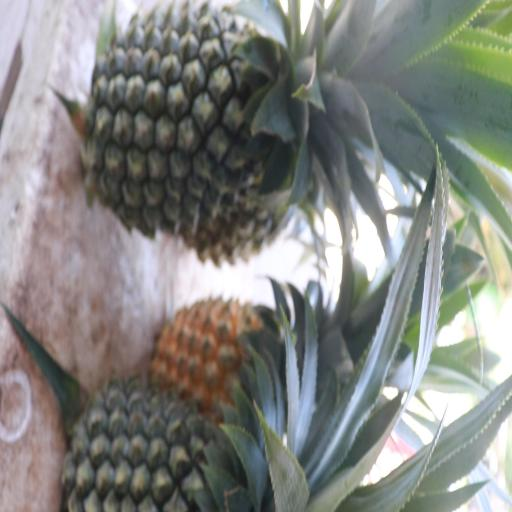Pineapple - v8 v1: (158, 286, 305, 415)
